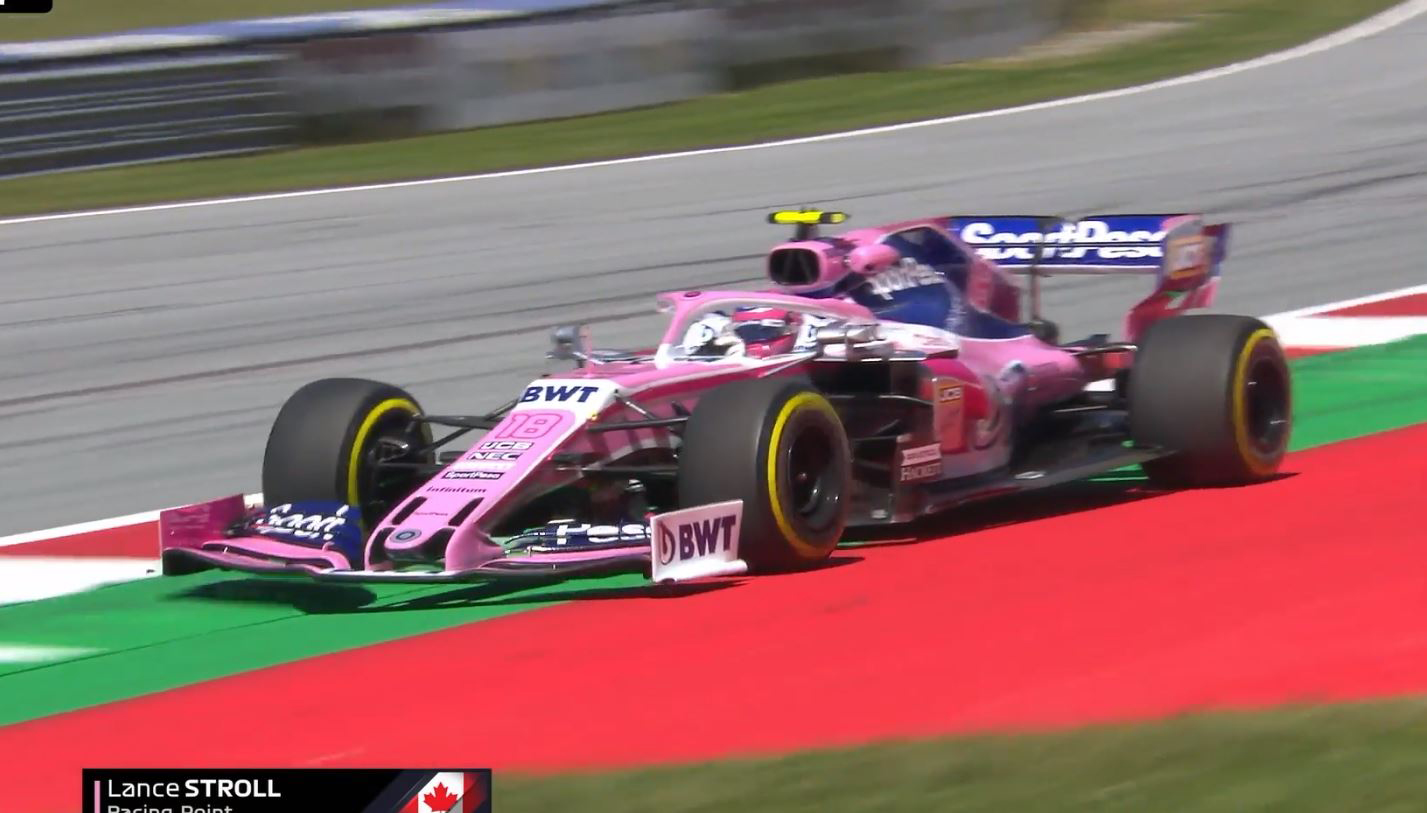F1 Car: (149, 194, 1309, 597)
